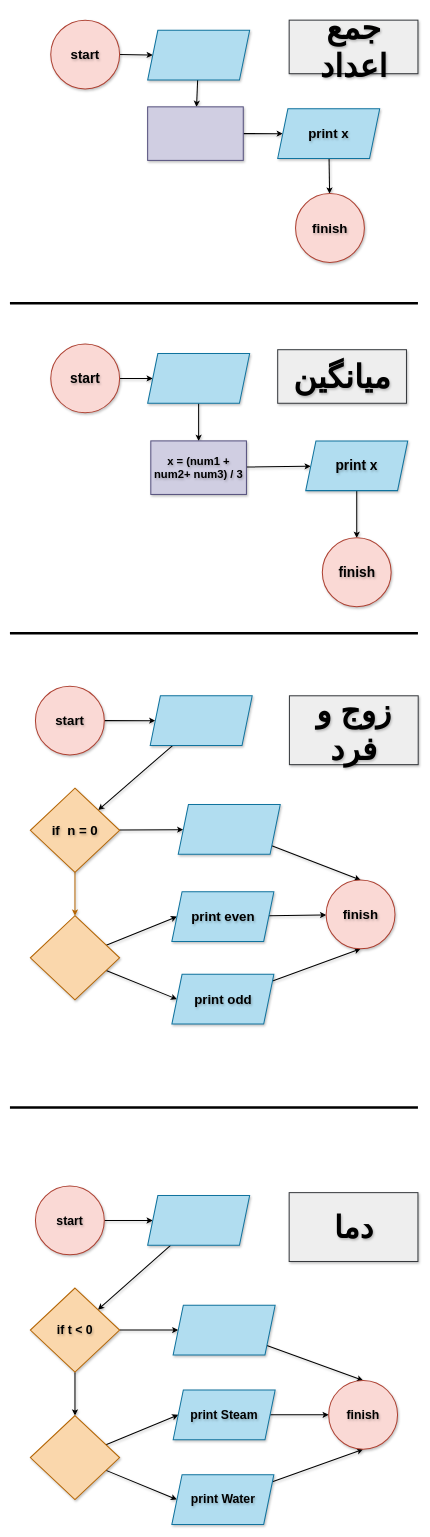
Image size: 430x1537. Some labels were removed from this diagram. Each missing label, with the centre of its shape:
"if n%2 == 0" goes at pixel 75 958.
"if t >= 100" goes at pixel 75 1458.
"input n" goes at pixel 201 721.
"input num1 input num2" goes at pixel 199 56.
"input num1 input num2 input num3" goes at pixel 199 379.
"input t" goes at pixel 199 1221.
"print Ice" goes at pixel 224 1330.
"print zero" goes at pixel 229 830.
"x = num1 + num2" goes at pixel 196 134.
